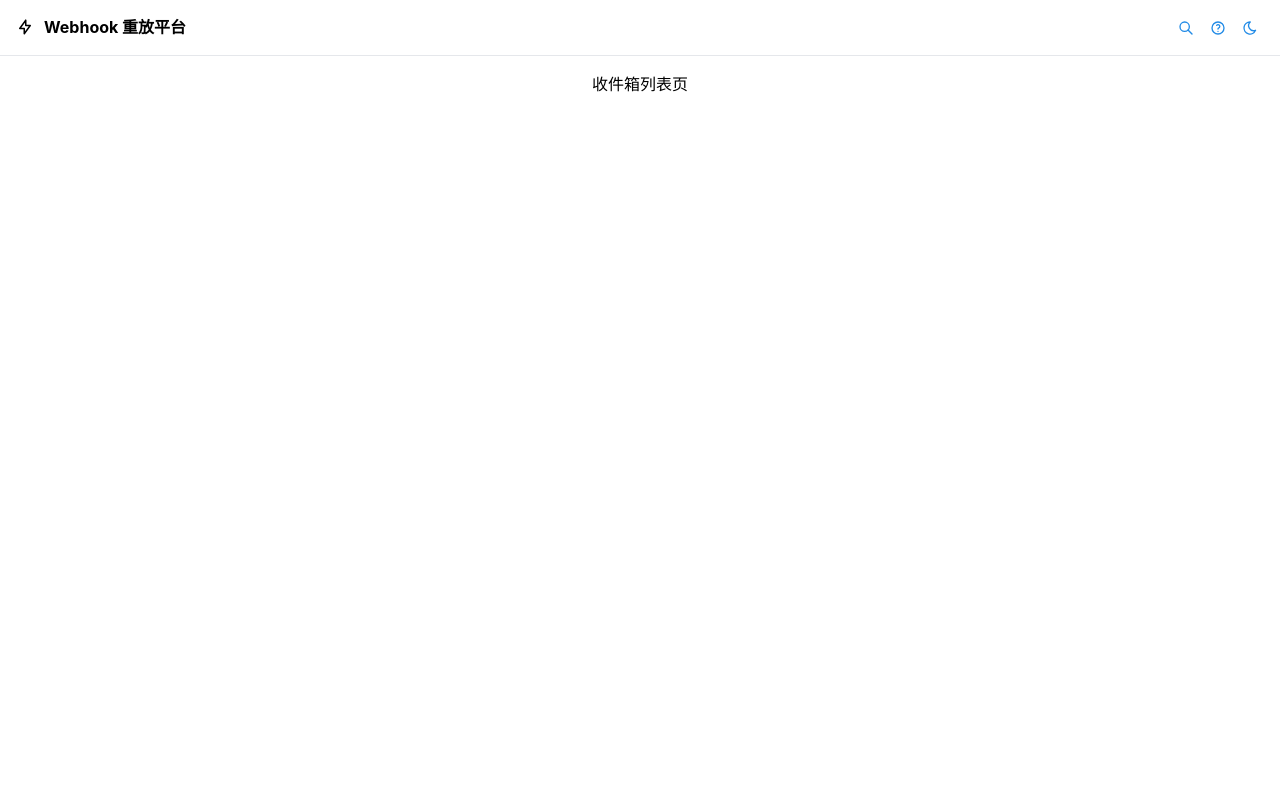
Test case: Layout command palette › jumps when a row is clicked
The width and height of the screenshot is (1280, 800).
Type keys "{Control>}k{/Control}"
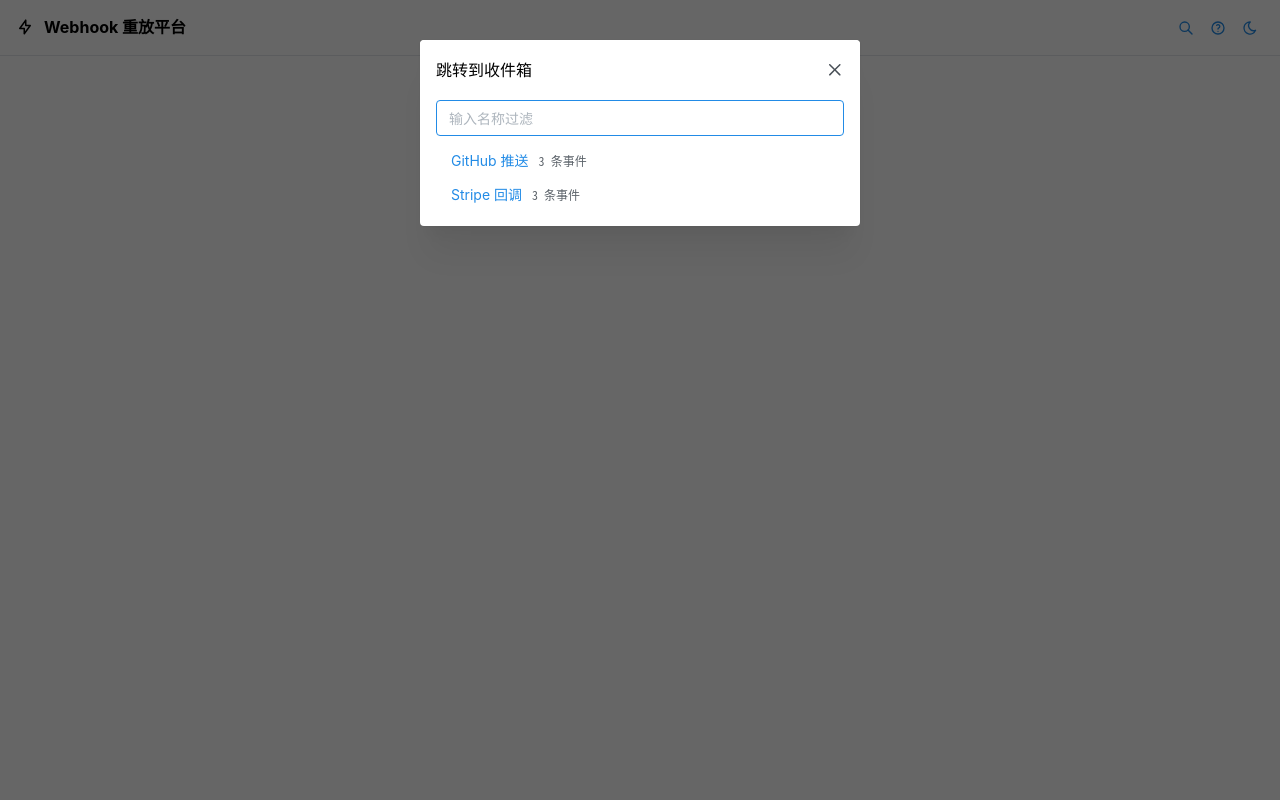
Result: the text "GitHub 推送" is shown
Click the text "GitHub 推送": (490, 161) [451,150,529,172]
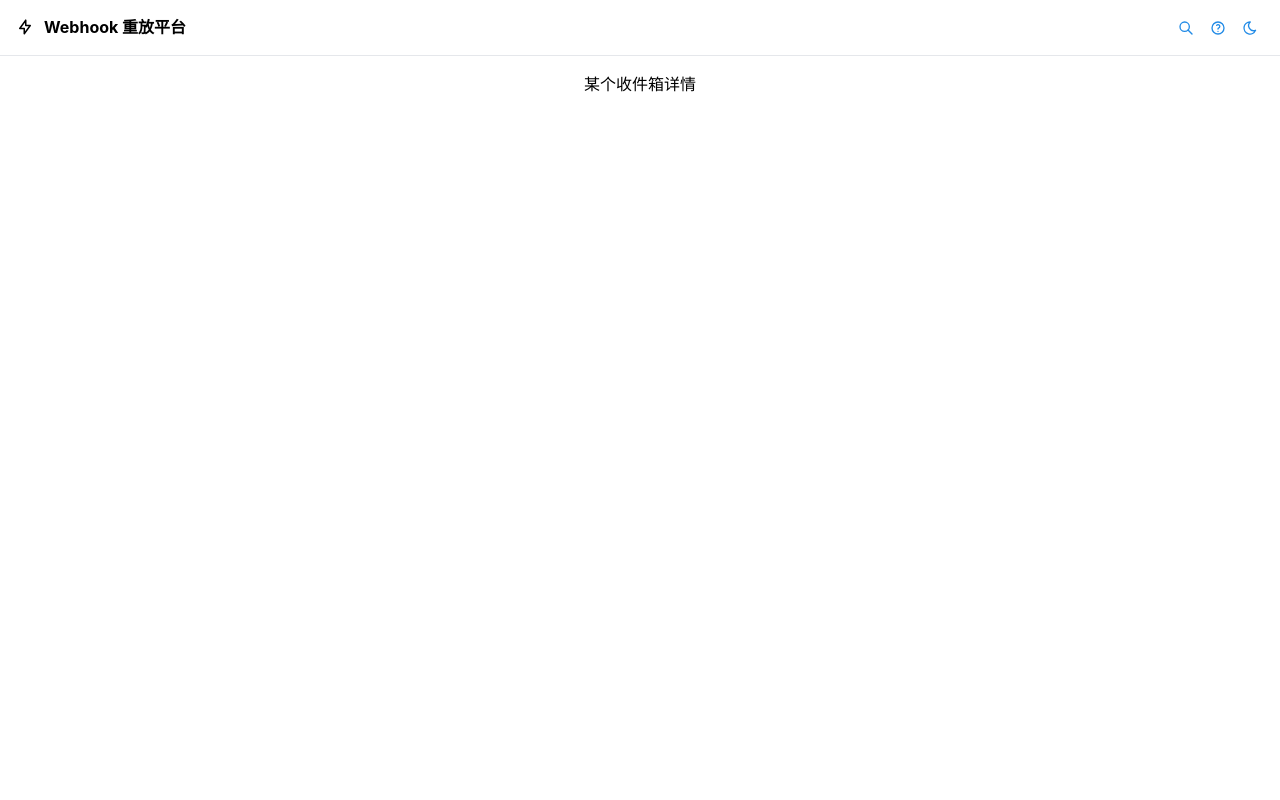
Result: the text "某个收件箱详情" is shown at [584,72,696,97]
